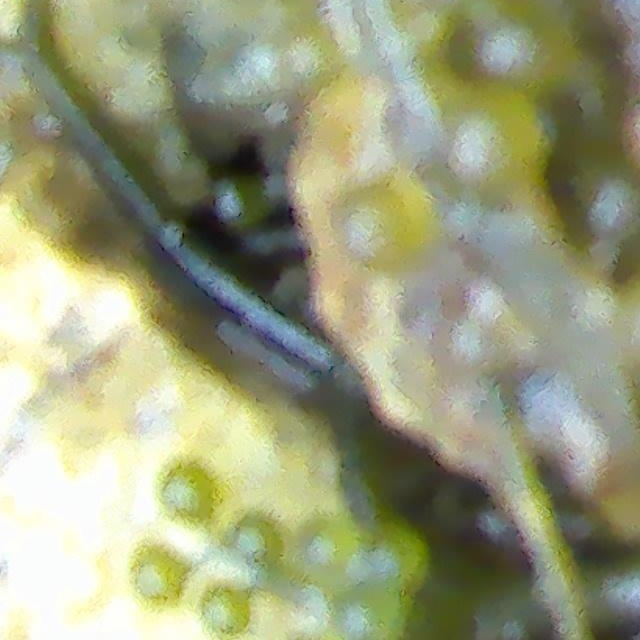SeaGrape: (449, 78, 560, 195), (342, 186, 436, 265), (294, 512, 364, 582), (356, 526, 425, 586), (153, 464, 220, 520), (338, 589, 406, 639), (229, 518, 286, 573), (128, 548, 181, 602), (198, 586, 253, 637)
